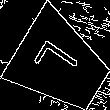L_SE: (33, 38, 88, 91)
